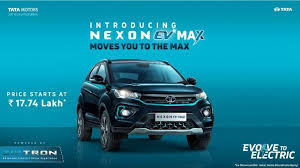Tata Nexon: (73, 59, 216, 155)
